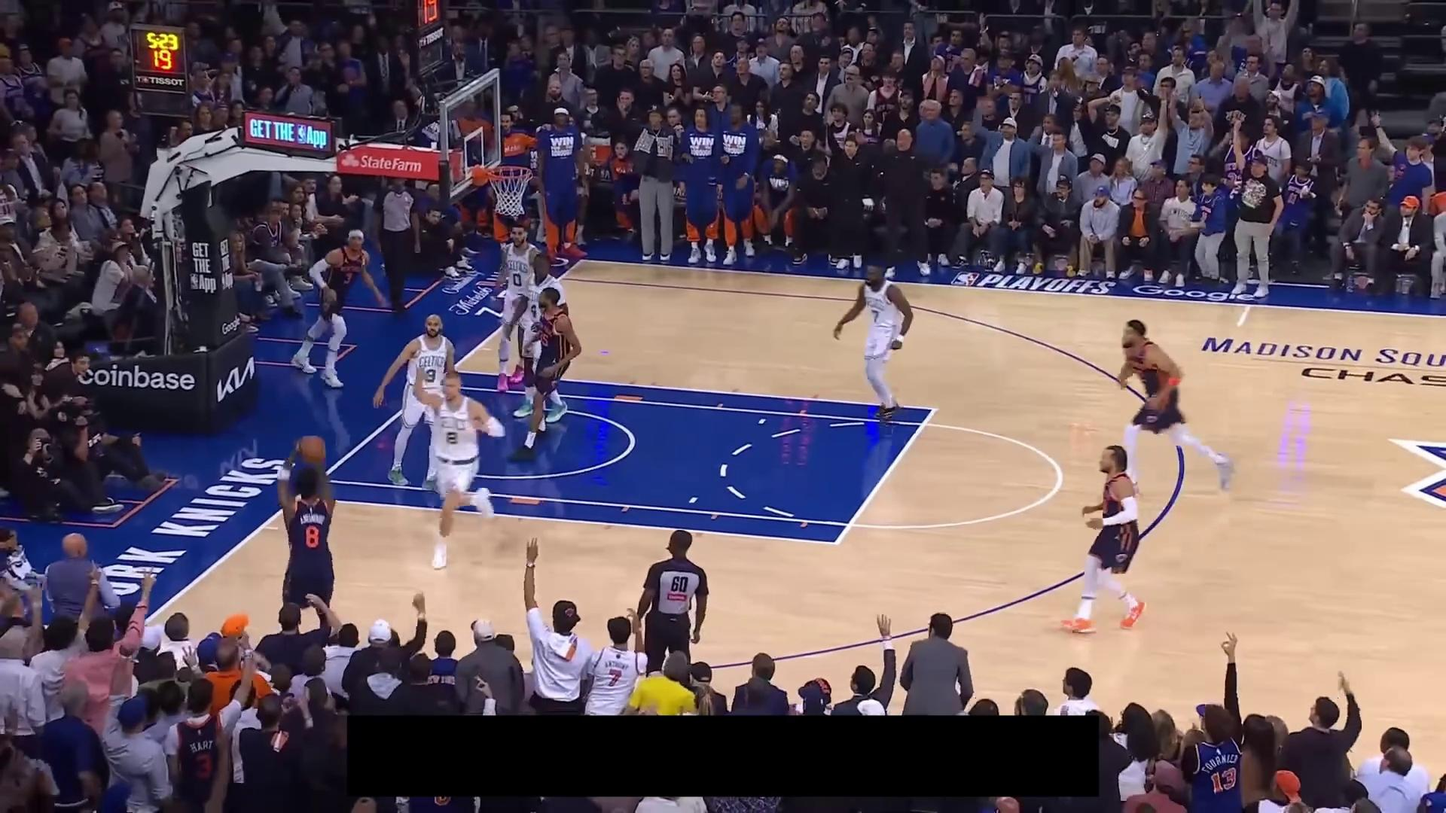ball: (299, 432, 329, 464)
number: (304, 523, 321, 550), (425, 368, 437, 383), (512, 272, 524, 287), (539, 329, 549, 347), (447, 431, 459, 445), (529, 302, 538, 318), (871, 308, 880, 323), (344, 272, 353, 285)
player: (407, 363, 511, 571), (1112, 315, 1234, 492), (285, 227, 392, 391), (1055, 445, 1146, 636), (371, 312, 460, 493), (509, 286, 584, 465), (834, 260, 915, 421), (487, 221, 545, 392)
player-jump-shot: (275, 432, 341, 631)
referee: (629, 525, 715, 678), (371, 179, 423, 312)
rim: (487, 163, 533, 180)
